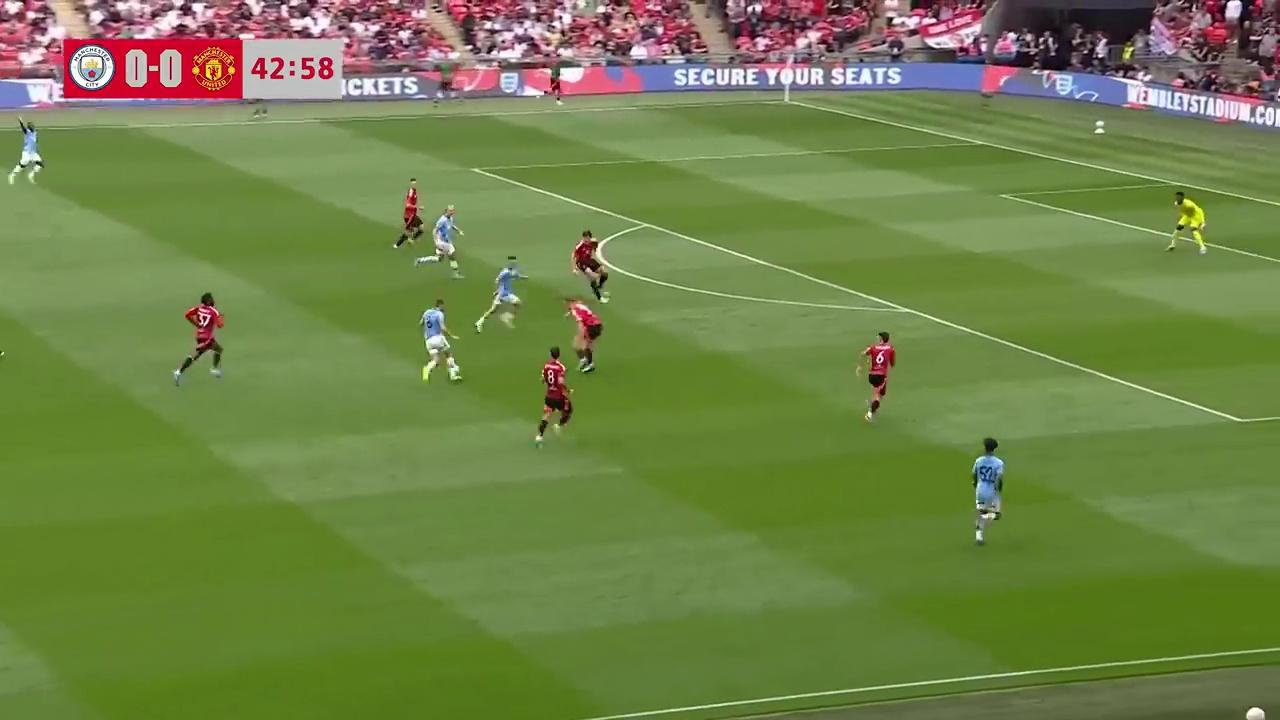ball: (448, 360, 460, 383)
player: (173, 292, 224, 386), (534, 346, 574, 448), (474, 256, 525, 333), (418, 297, 461, 384), (970, 438, 1004, 543), (856, 332, 895, 421), (563, 296, 603, 373), (570, 229, 609, 300), (1167, 191, 1207, 254), (1166, 191, 1206, 254), (6, 119, 43, 186), (428, 205, 464, 273), (393, 179, 426, 249), (586, 231, 611, 302)
